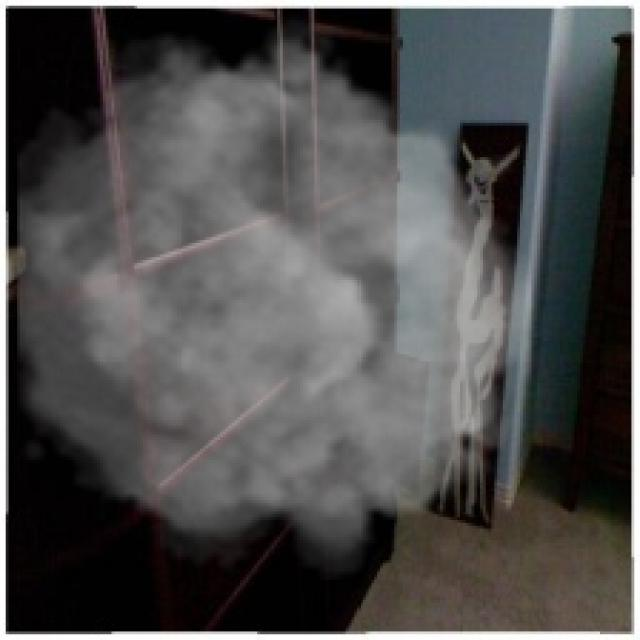smoke: (17, 14, 532, 580)
